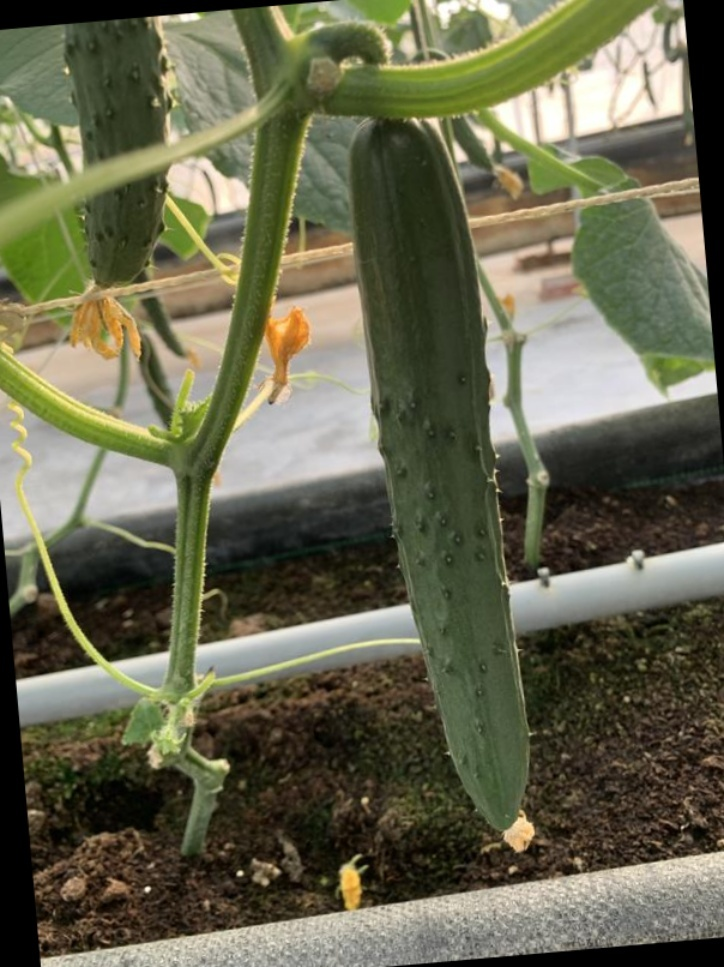mature: (332, 107, 536, 843), (42, 13, 183, 333)
